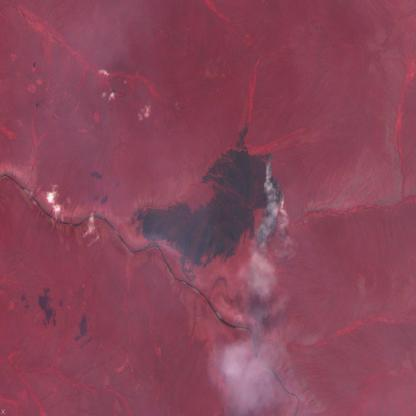fire: (241, 148, 290, 253)
